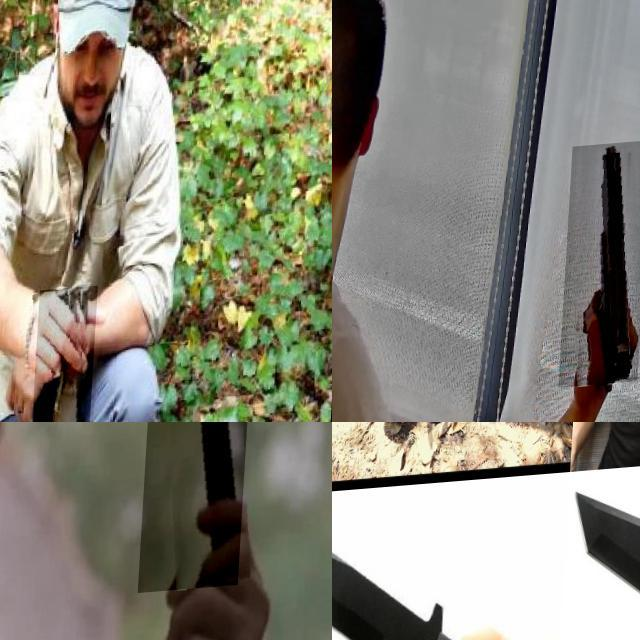-: (332, 493, 568, 640), (144, 422, 266, 640), (561, 474, 640, 640), (32, 292, 102, 422), (386, 422, 409, 450)
gun-knife-thesis - v11 Yolov5 augmented: (563, 147, 640, 393)
